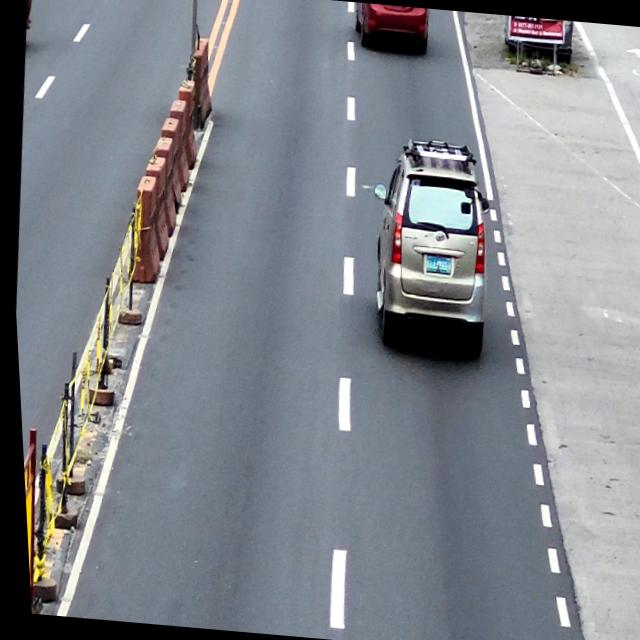Car: (357, 136, 500, 359), (351, 2, 432, 54)
License-Plate: (422, 254, 449, 275)
